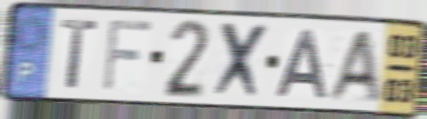2: (162, 17, 212, 100)
A: (323, 28, 383, 103), (273, 28, 330, 101)
F: (100, 17, 156, 95)
T: (58, 17, 100, 92)
X: (209, 19, 271, 104)
